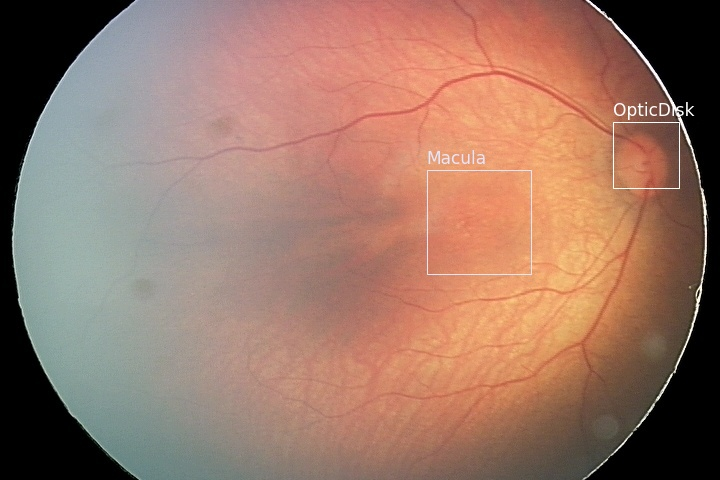Macula: (426, 169, 530, 273)
OpticDisk: (612, 121, 678, 187)
